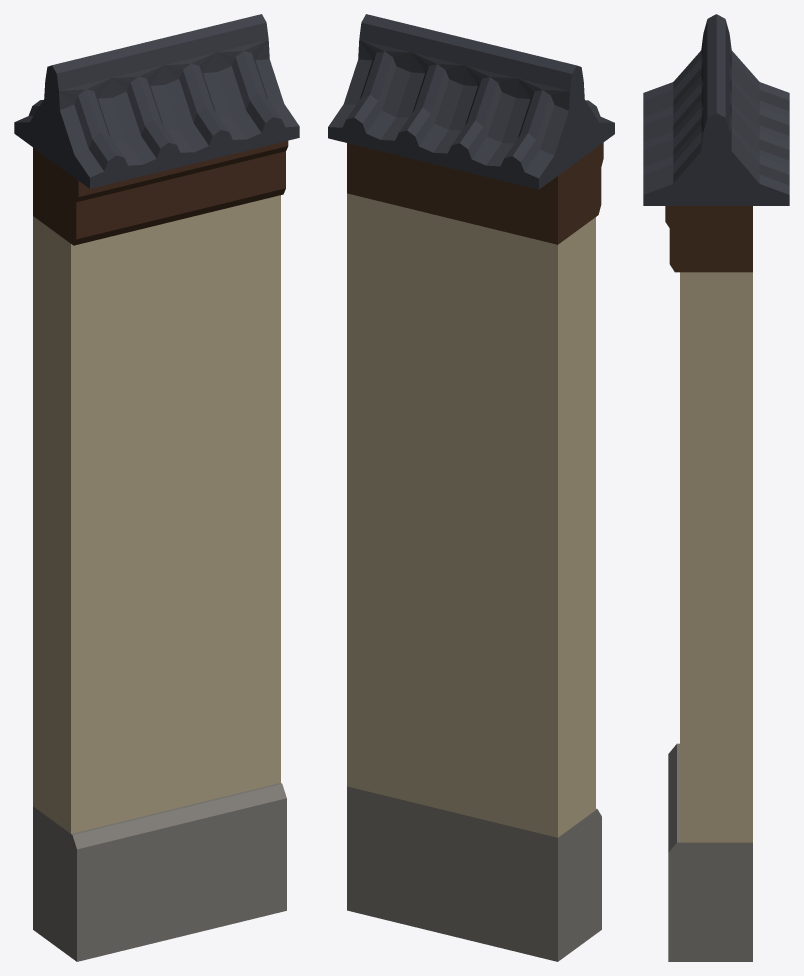
Rendered from rw_wall.glb.
3 views of the same model, side by side, from view 1: azimuth 30°, elevation 25°; view 2: azimuth 150°, elevation 25°; view 3: azimuth 270°, elevation 25° (orthographic). The views are drawn at different scales.
Parts seen in each view (by area): view 1: rw_wall__wl_field, rw_wall__wl_base, rw_wall__wl_roof, rw_wall__wl_beam; view 2: rw_wall__wl_field, rw_wall__wl_base, rw_wall__wl_roof, rw_wall__wl_beam; view 3: rw_wall__wl_field, rw_wall__wl_roof, rw_wall__wl_base, rw_wall__wl_beam.
Part boxes in pixels (box(x1,y1,x2,y2)): rw_wall__wl_field: box(33, 195, 280, 833); rw_wall__wl_base: box(33, 783, 286, 961); rw_wall__wl_roof: box(14, 14, 299, 188); rw_wall__wl_beam: box(33, 140, 288, 245); rw_wall__wl_field: box(347, 193, 595, 837); rw_wall__wl_base: box(347, 786, 601, 961); rw_wall__wl_roof: box(328, 14, 614, 189); rw_wall__wl_beam: box(347, 142, 603, 244); rw_wall__wl_field: box(680, 272, 752, 842); rw_wall__wl_roof: box(643, 14, 789, 205); rw_wall__wl_base: box(668, 743, 752, 961); rw_wall__wl_beam: box(665, 206, 752, 272).
Bounding box in the file's own units: 16 × 64 × 10.
